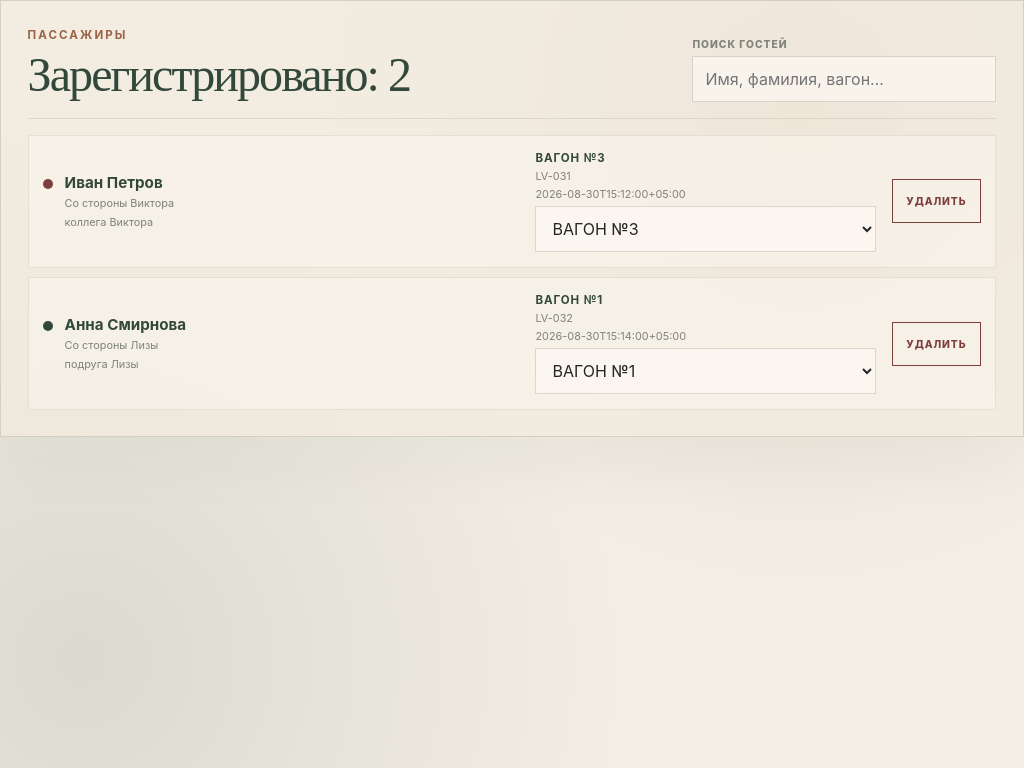
Test: AdminGuestsPage › keeps reassignment pending and feedback scoped to the affected row
Later steps or results of the test are not shown.
Select "ВАГОН №4" in the dropdown named "Вагон Иван Петров": [706, 229] box [535, 206, 876, 252]
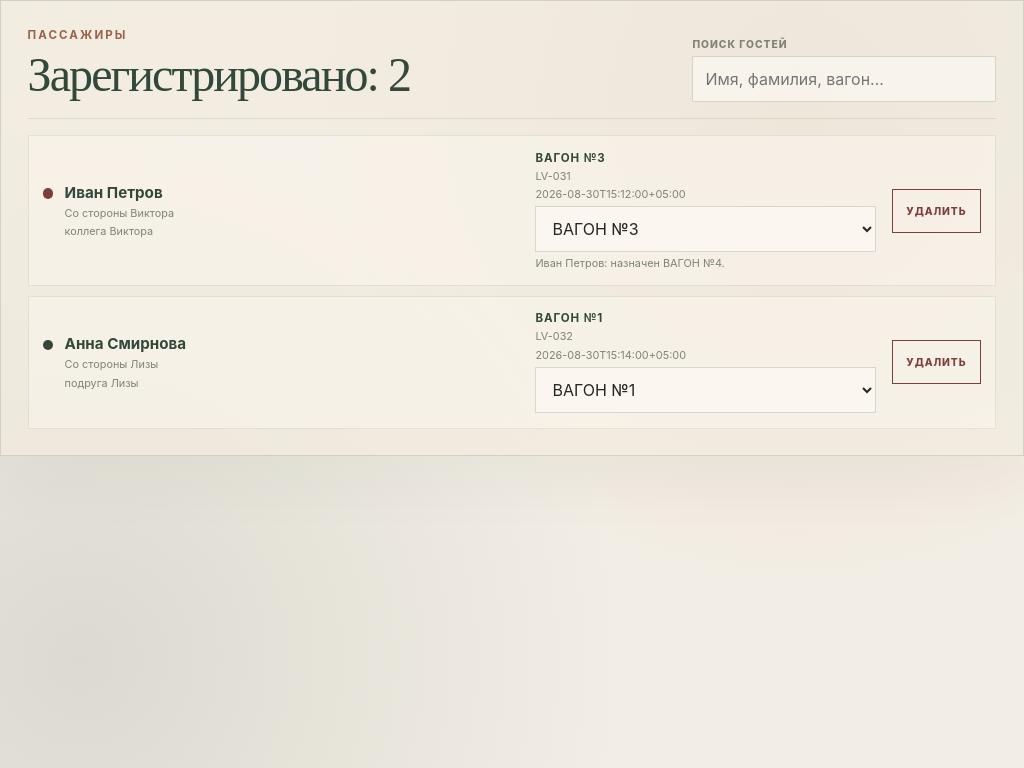
Expected: the dropdown named "Вагон Анна Смирнова" is enabled, [535, 367, 876, 413]
Now the message shows "назначен ВАГОН №4", box [535, 256, 725, 270]
